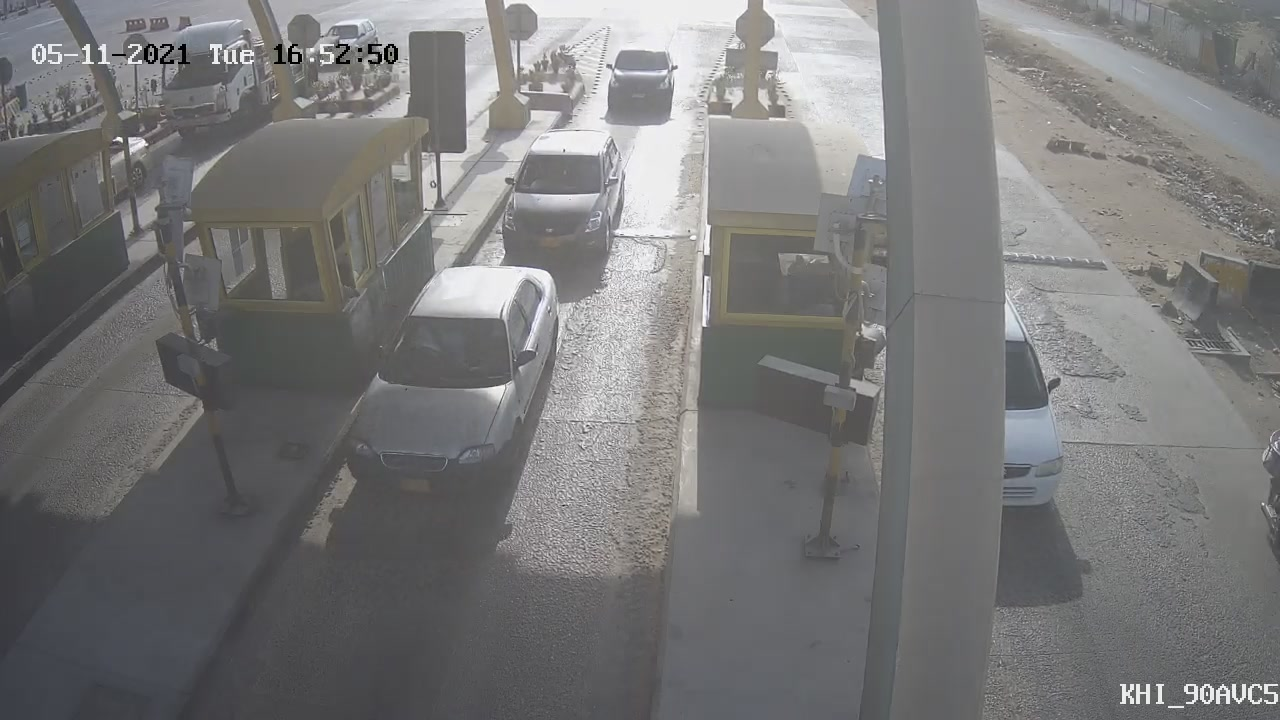F1: (324, 239, 587, 533), (486, 112, 643, 288), (595, 33, 690, 130)
